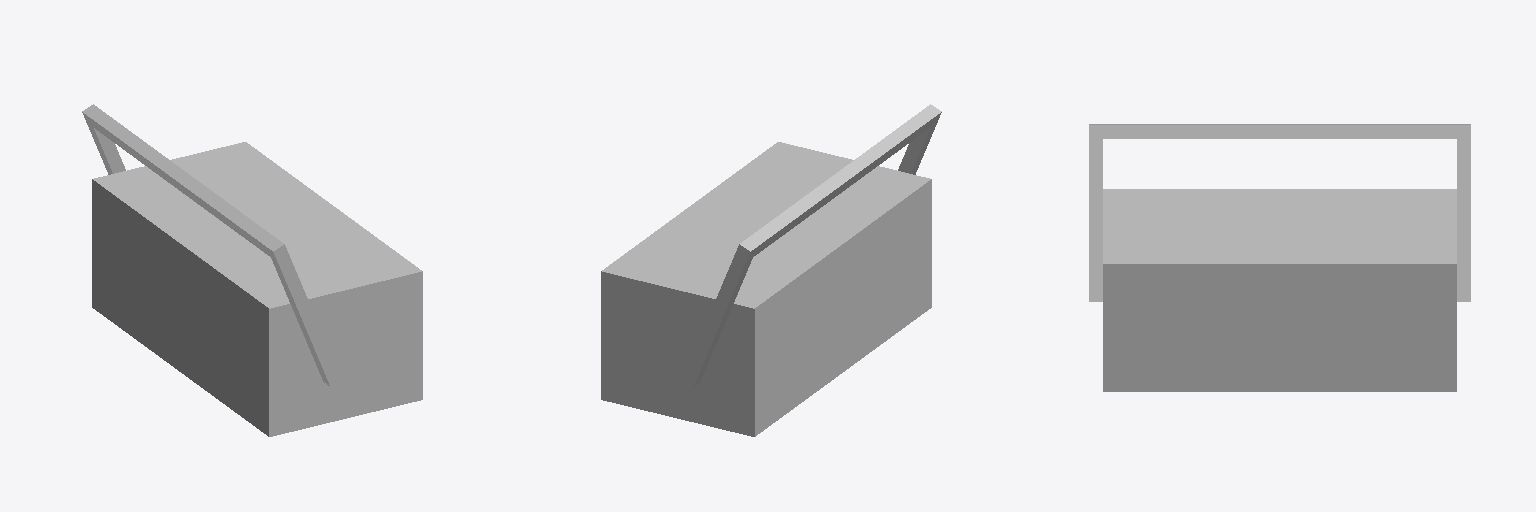
Rendered from toolbox.obj.
3 views of the same model, side by side, from view 1: azimuth 30°, elevation 25°; view 2: azimuth 150°, elevation 25°; view 3: azimuth 270°, elevation 25° (orthographic).
Parts seen in each view (by area): view 1: pCube1, pCube5; view 2: pCube1, pCube5; view 3: pCube1, pCube5.
Boxes of the visible parts, <box> form: pCube1: <box>92,142,422,436</box>; pCube5: <box>82,104,341,386</box>; pCube1: <box>601,142,931,436</box>; pCube5: <box>682,104,941,386</box>; pCube1: <box>1103,189,1456,391</box>; pCube5: <box>1089,124,1470,301</box>.
Bounding box in the file's own units: 1.28 × 1.53 × 2.7.